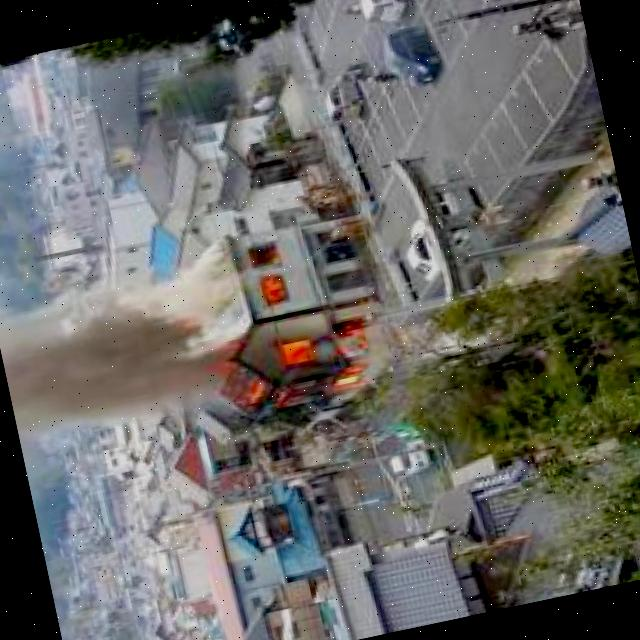fire: (226, 317, 377, 420), (255, 261, 297, 311)
